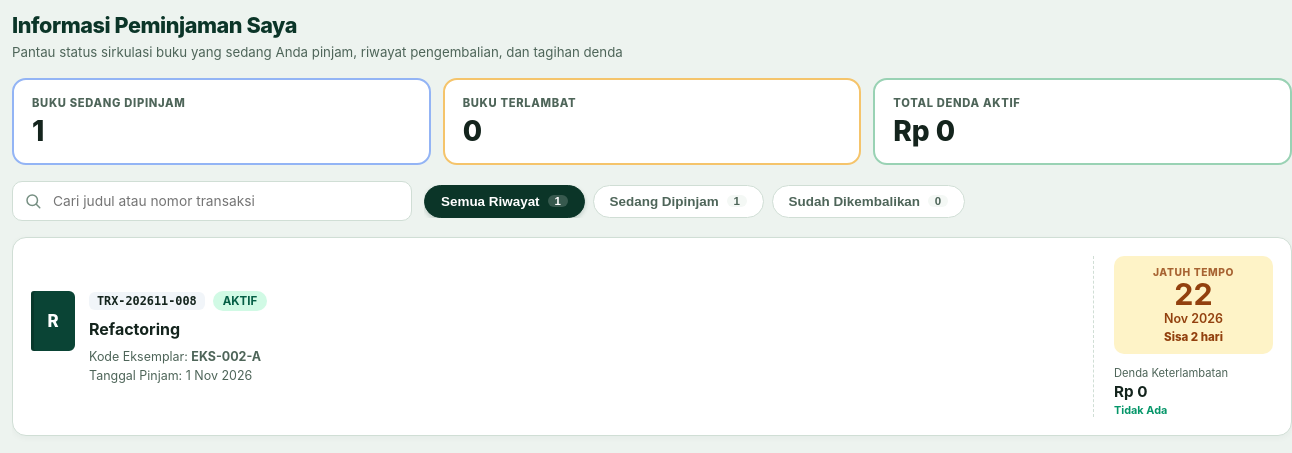
Test: Informasi Peminjaman › memperbarui tanggal referensi saat riwayat diterima setelah filter dimuat ulang
Check: the text "Sisa 2 hari" is shown, box x1=1164 y1=330 x2=1223 y2=344
Click the tab "Sudah Dikembalikan 0" at (868, 201), box x1=772 y1=184 x2=965 y2=218
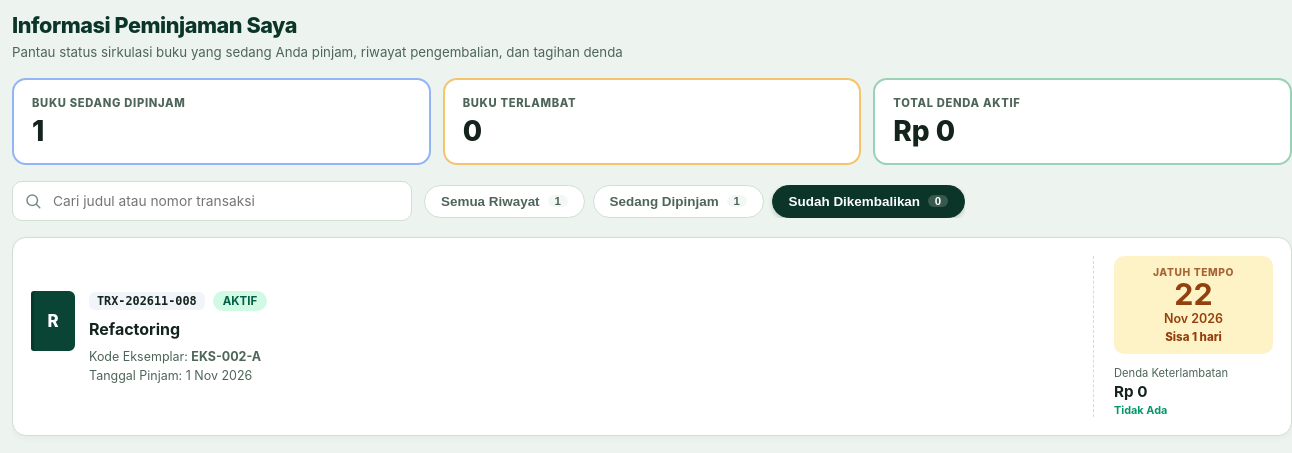
Check: the text "Sisa 1 hari" is shown, box x1=1165 y1=330 x2=1222 y2=344
